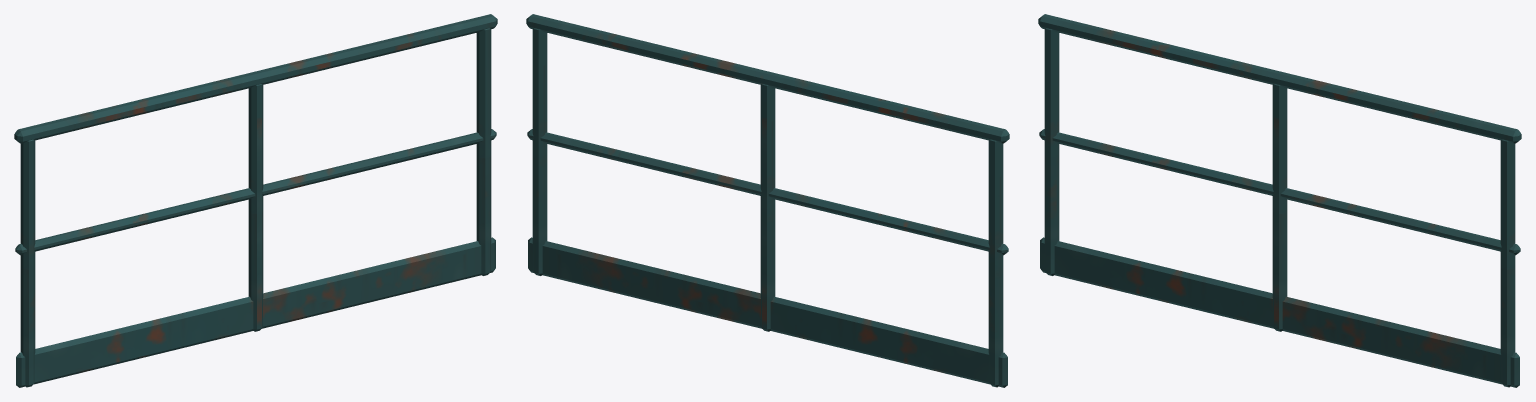
The model's file is WK_STRUCT_RAILING_A_01.glb.
3 views of the same model, side by side, from view 1: azimuth 30°, elevation 25°; view 2: azimuth 150°, elevation 25°; view 3: azimuth 330°, elevation 25° (orthographic).
Parts seen in each view (by area): view 1: WK_STRUCT_RAILING_A_01; view 2: WK_STRUCT_RAILING_A_01; view 3: WK_STRUCT_RAILING_A_01.
Boxes of the visible parts, x1,y1,x2,y2 form: WK_STRUCT_RAILING_A_01: (14, 14, 497, 387); WK_STRUCT_RAILING_A_01: (526, 14, 1009, 387); WK_STRUCT_RAILING_A_01: (1038, 14, 1521, 387).
Size of the model in its own units: 2 by 1.02 by 0.05.
1 material, 1 textured.
